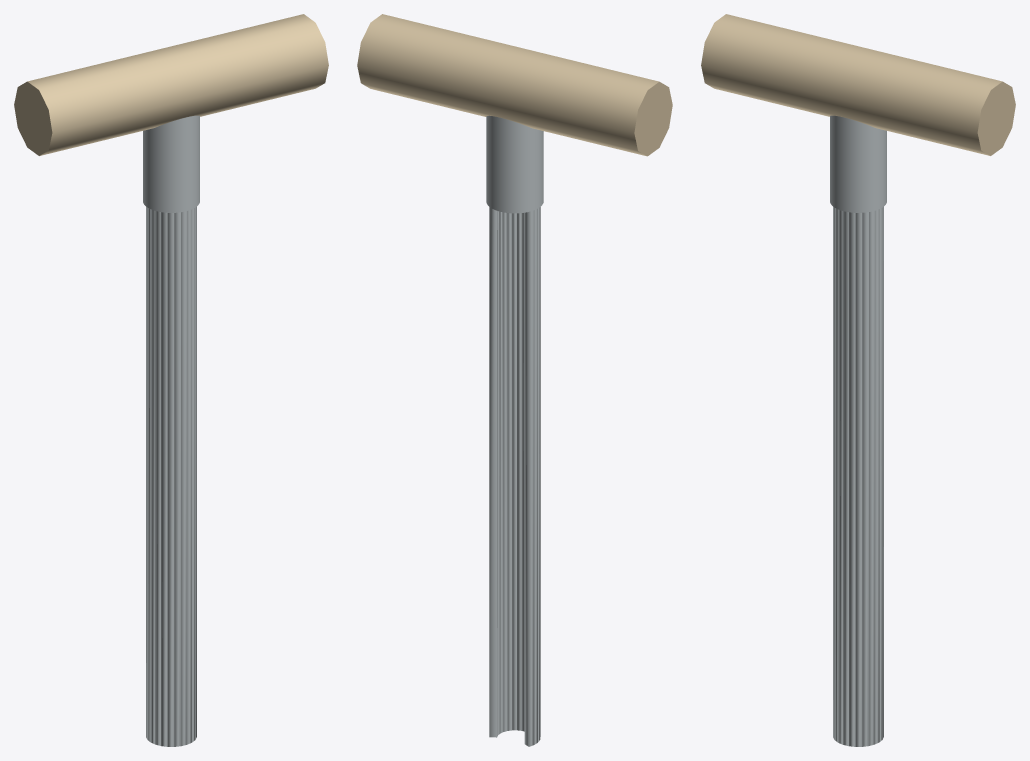
File: cheesemaking-and-dairy-cellar-cheese-trier-823943e9__30891.glb
The picture shows the model from 3 angles, left to right: view 1: azimuth 30°, elevation 25°; view 2: azimuth 150°, elevation 25°; view 3: azimuth 330°, elevation 25°; orthographic projection.
Visible parts, largest first — view 1: cheese-trier; view 2: cheese-trier; view 3: cheese-trier.
Part boxes in pixels (bbox=[...]): cheese-trier: bbox=[14, 14, 328, 746]; cheese-trier: bbox=[357, 14, 672, 746]; cheese-trier: bbox=[701, 14, 1015, 746].
Size of the model in its own units: 0.1 by 0.2364 by 0.024.
